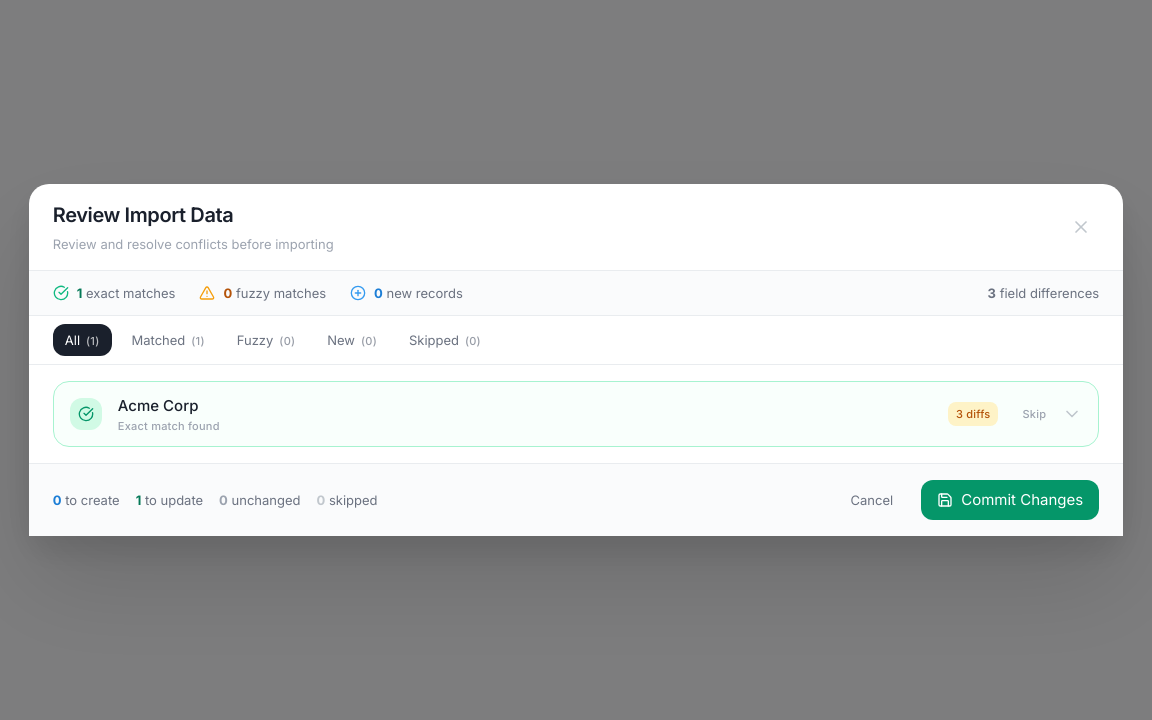
ExcelReviewModal - Field Diff Recalculation › Edge Cases › 6. handles changing to skip status
Check: the text "Acme Corp" is shown, box [118,396,198,415]
Click the text "Acme Corp" at (86, 414), box [70,396,1082,433]
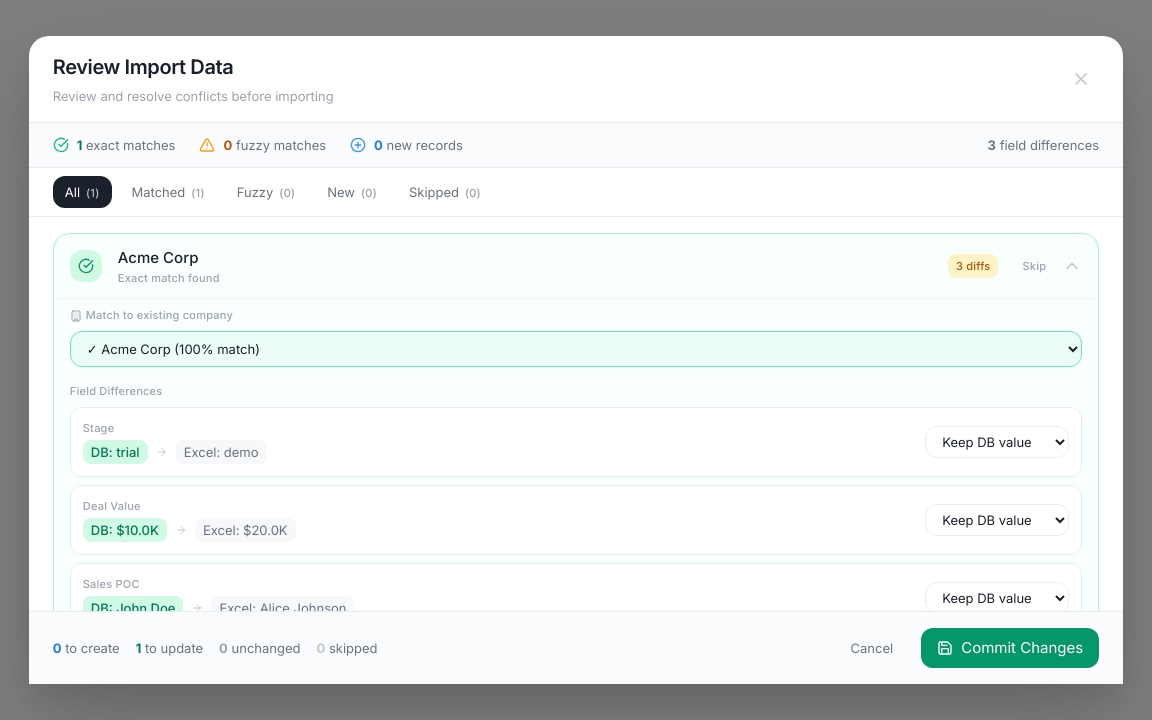
Check: the dropdown below "Match to existing company" is shown
Select "⏭️ Skip this row" in the dropdown below "Match to existing company" at (576, 349), box [70,331,1082,367]
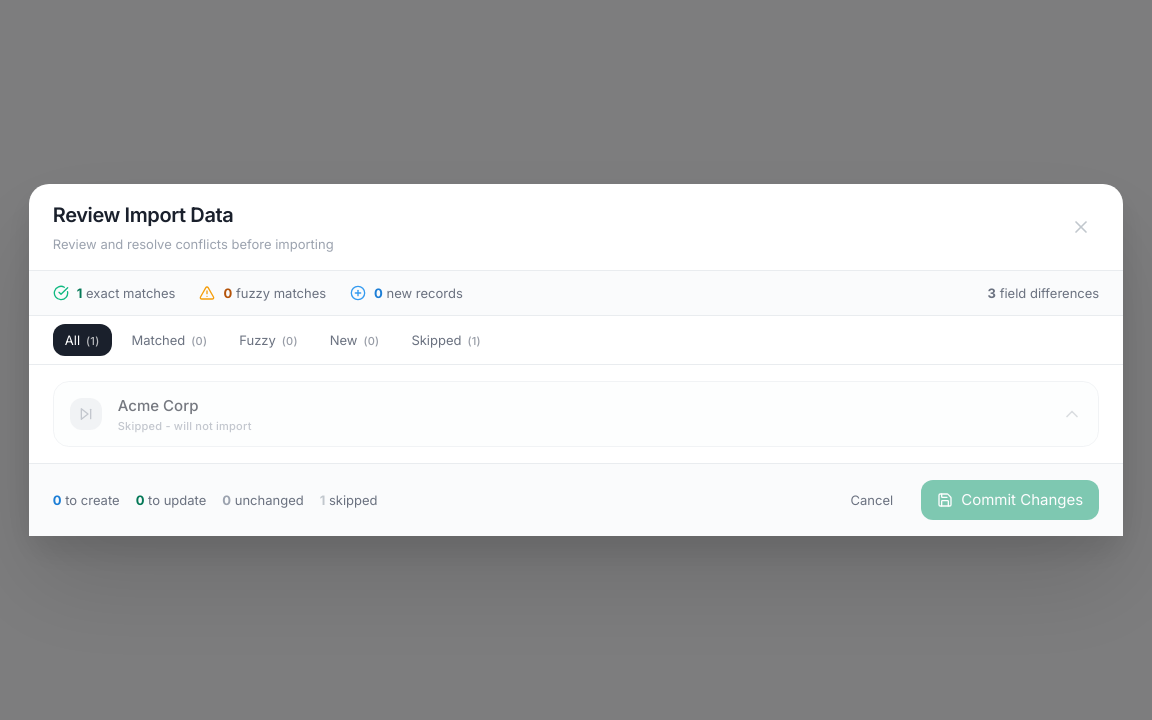
Check: the text "Skipped - will not import" is shown, box [118,419,252,433]
Check: the text "Stage" is gone
